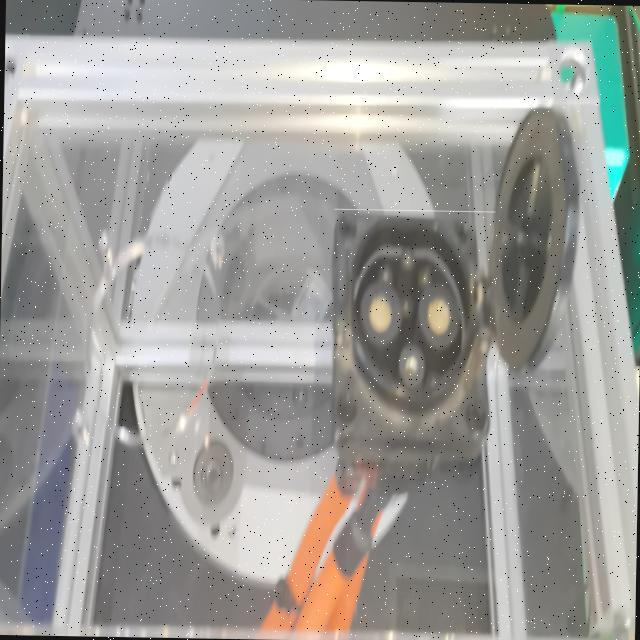GB-T: (334, 209, 496, 468)
